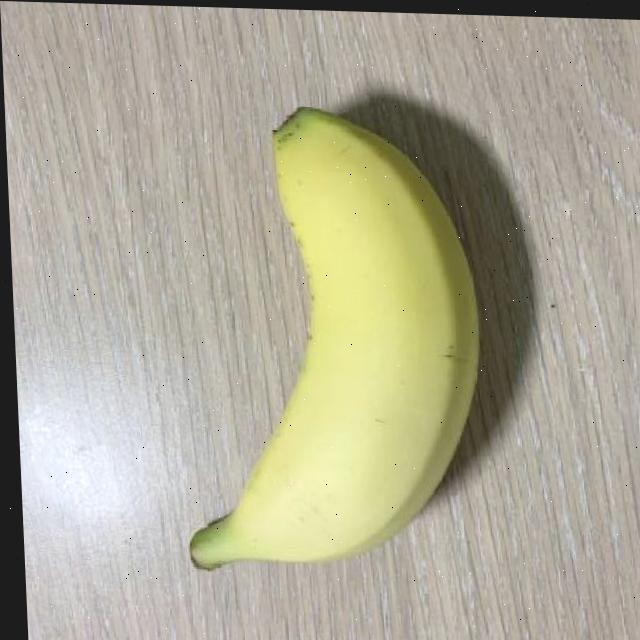banana: (144, 95, 501, 590)
